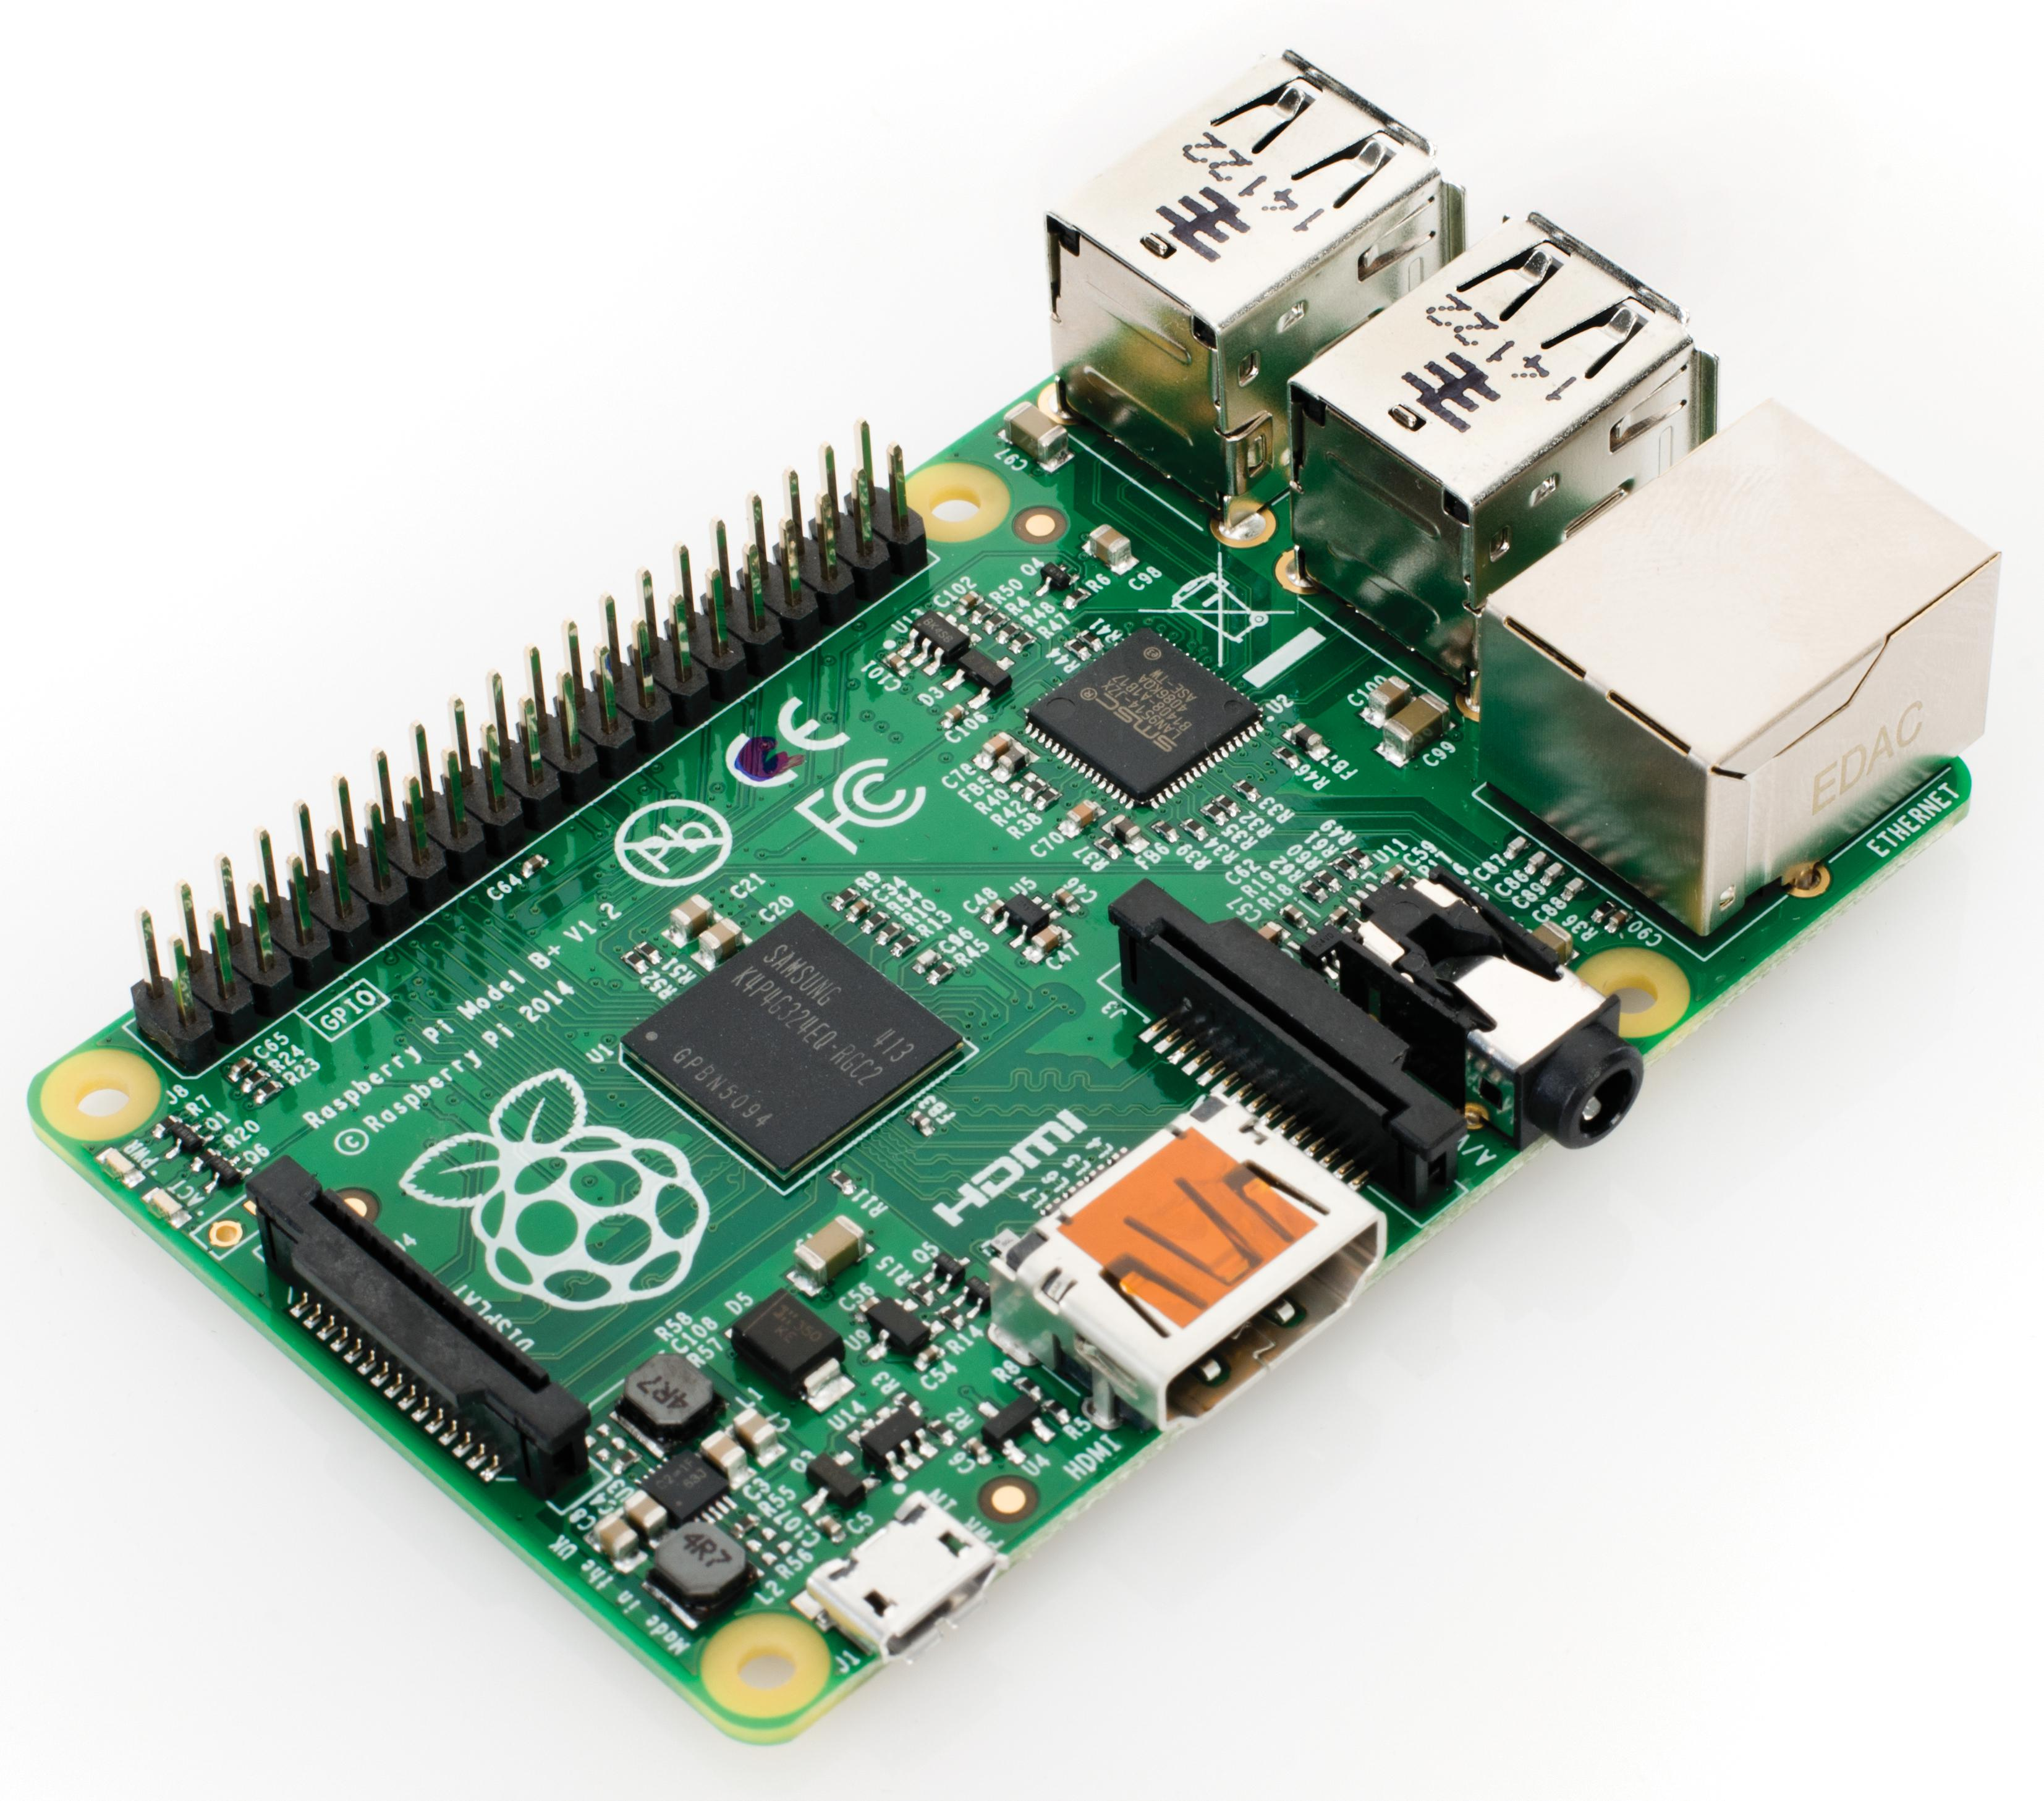audiojack: (1337, 845, 1648, 1140)
bchi: (615, 913, 956, 1182)
ethernet: (1474, 389, 2004, 954)
gpio: (122, 443, 949, 1050)
usb: (1298, 214, 1686, 688), (1052, 68, 1446, 511)
